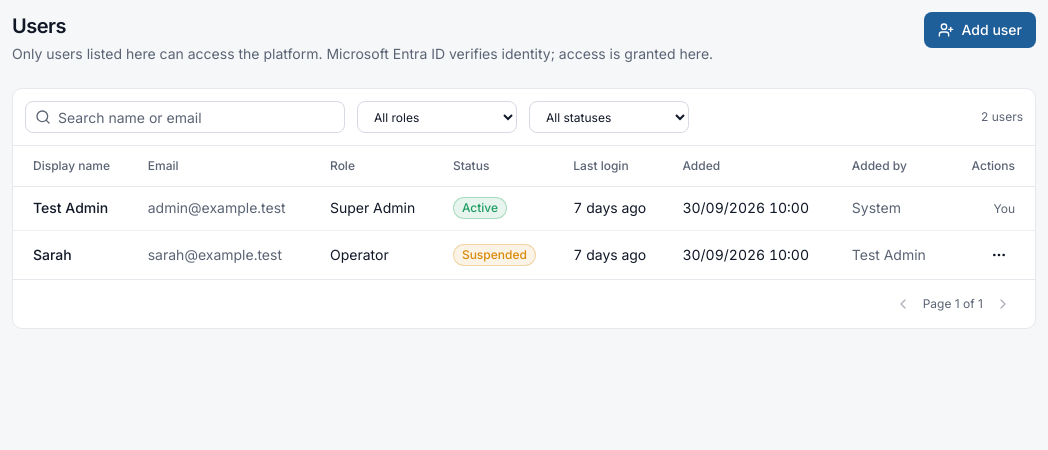
Test: Users page › only offers actions that apply to the user's status
Click the button named "Actions for Sarah" at coordinates (999, 254), box [983,238,1015,270]
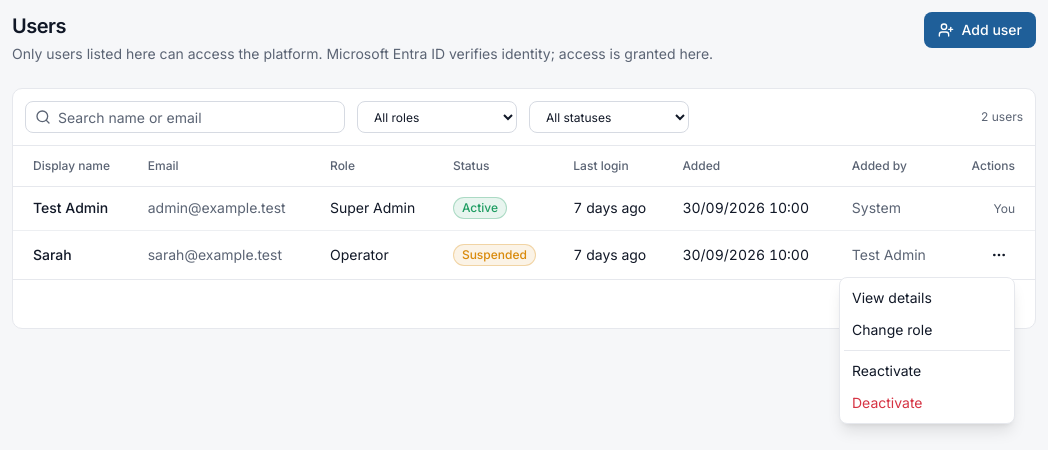
expect the menu item "Reactivate" is shown: met, box [852,362,921,379]
